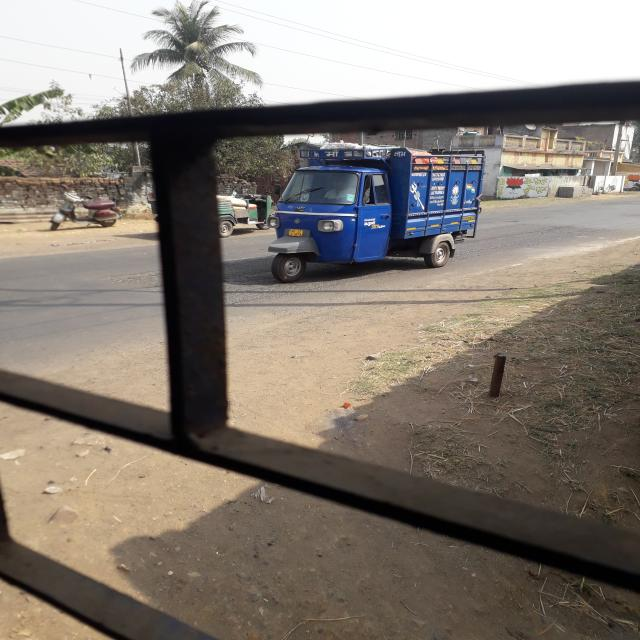Bike: (34, 184, 122, 240), (626, 180, 640, 192)
tempo: (264, 142, 488, 282), (140, 182, 284, 235)
